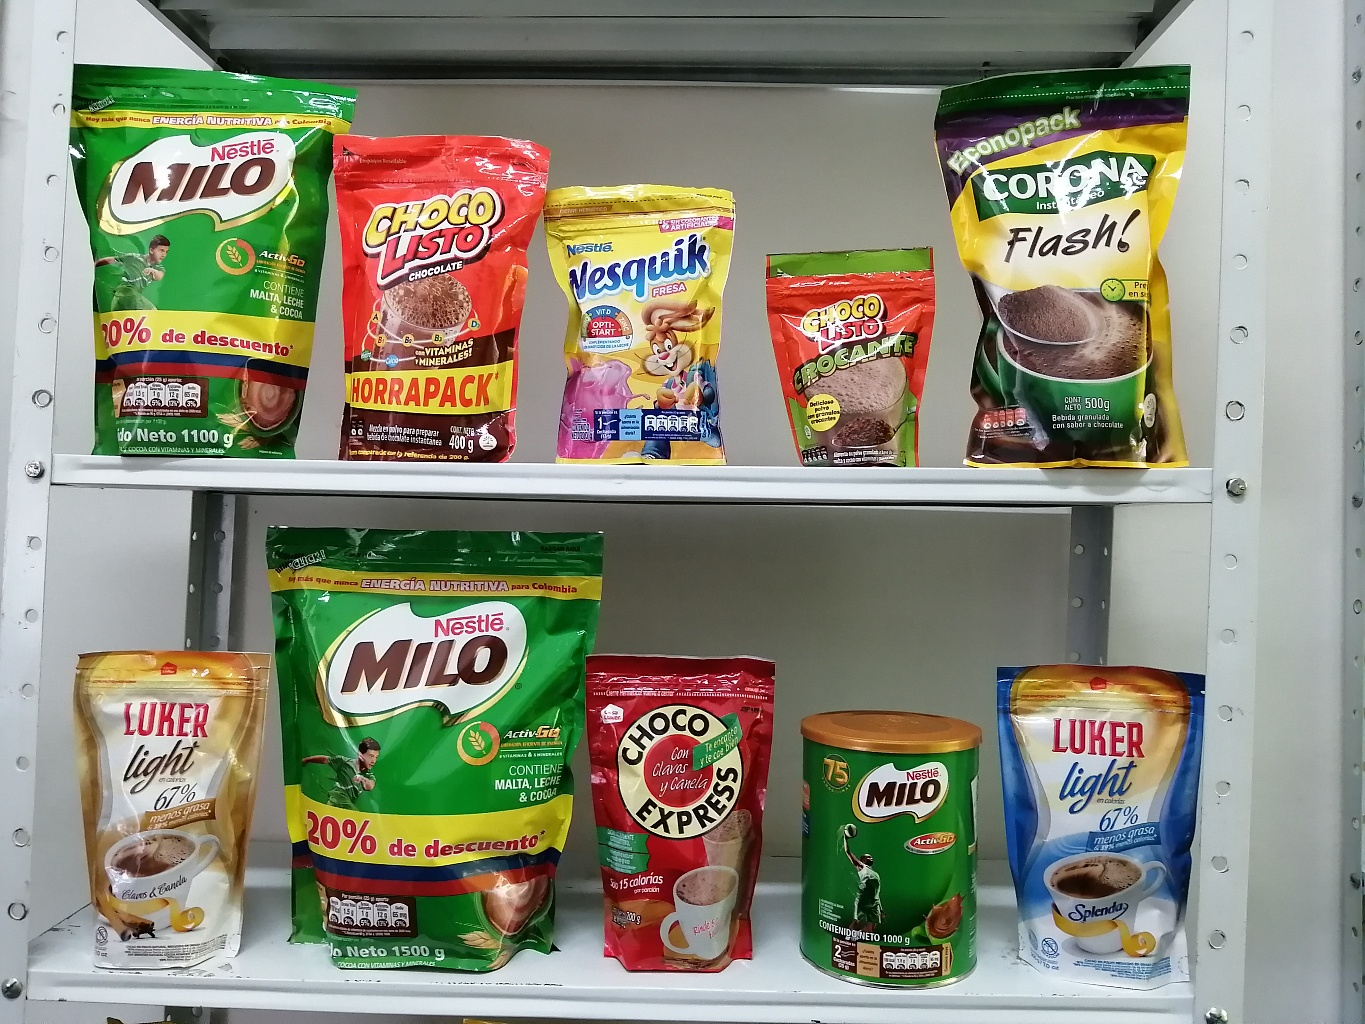COL0170102DYP10000: (753, 234, 947, 466)
COL0170103DYP40000: (332, 126, 570, 449)
COL0170305DYP20000: (541, 182, 770, 459)
